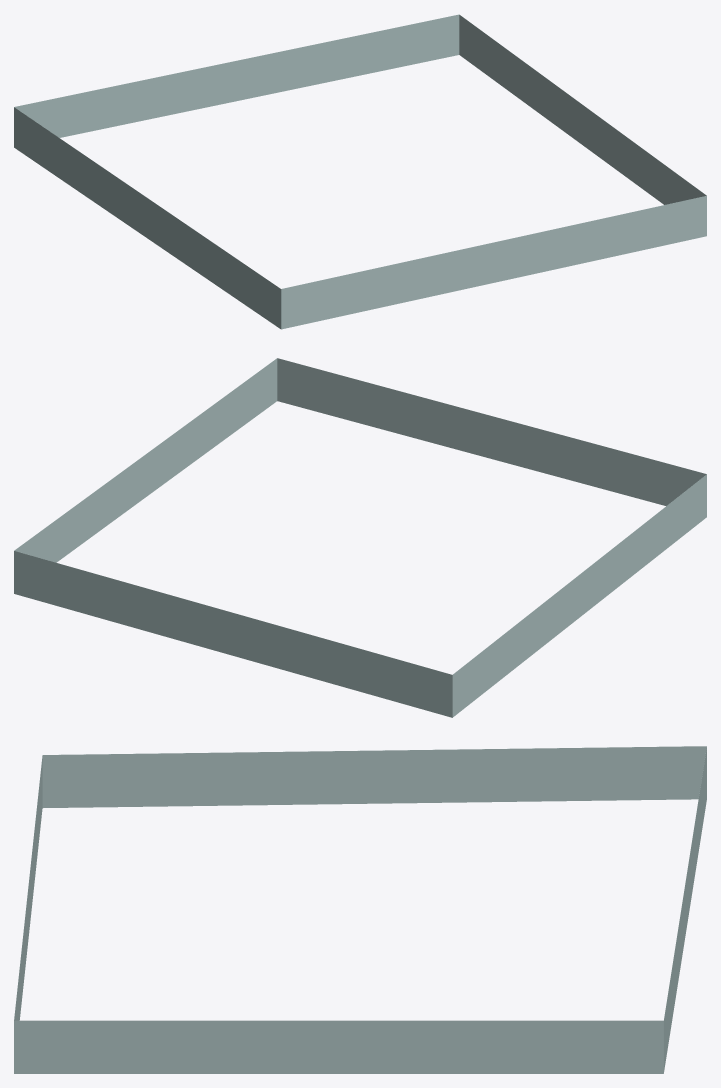
File: Glass.fbx
The picture shows the model from 3 angles, top to bottom: view 1: azimuth 30°, elevation 25°; view 2: azimuth 150°, elevation 25°; view 3: azimuth 270°, elevation 25°; orthographic projection. The views are drawn at different scales.
Visible parts, largest first — view 1: GlassBottom, GlassTop, GlassLeft, GlassRight; view 2: GlassTop, GlassBottom, GlassLeft, GlassRight; view 3: GlassLeft, GlassRight, GlassTop, GlassBottom.
Boxes of the visible parts, <box> form: GlassBottom: <box>281,196,706,329</box>; GlassTop: <box>14,14,459,137</box>; GlassLeft: <box>14,107,280,328</box>; GlassRight: <box>459,14,706,204</box>; GlassTop: <box>14,551,452,717</box>; GlassBottom: <box>277,358,706,505</box>; GlassLeft: <box>452,474,706,717</box>; GlassRight: <box>14,358,277,562</box>; GlassLeft: <box>42,746,706,807</box>; GlassRight: <box>14,1020,663,1073</box>; GlassTop: <box>663,747,706,1073</box>; GlassBottom: <box>14,755,42,1020</box>.
Size of the model in its own units: 4436 by 400 by 4731.
